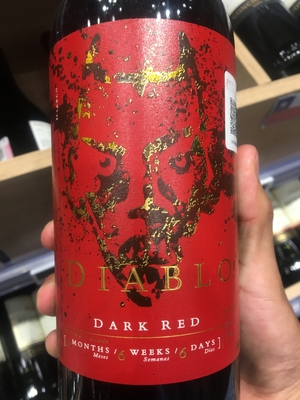diablo dark red: (49, 4, 242, 400)
